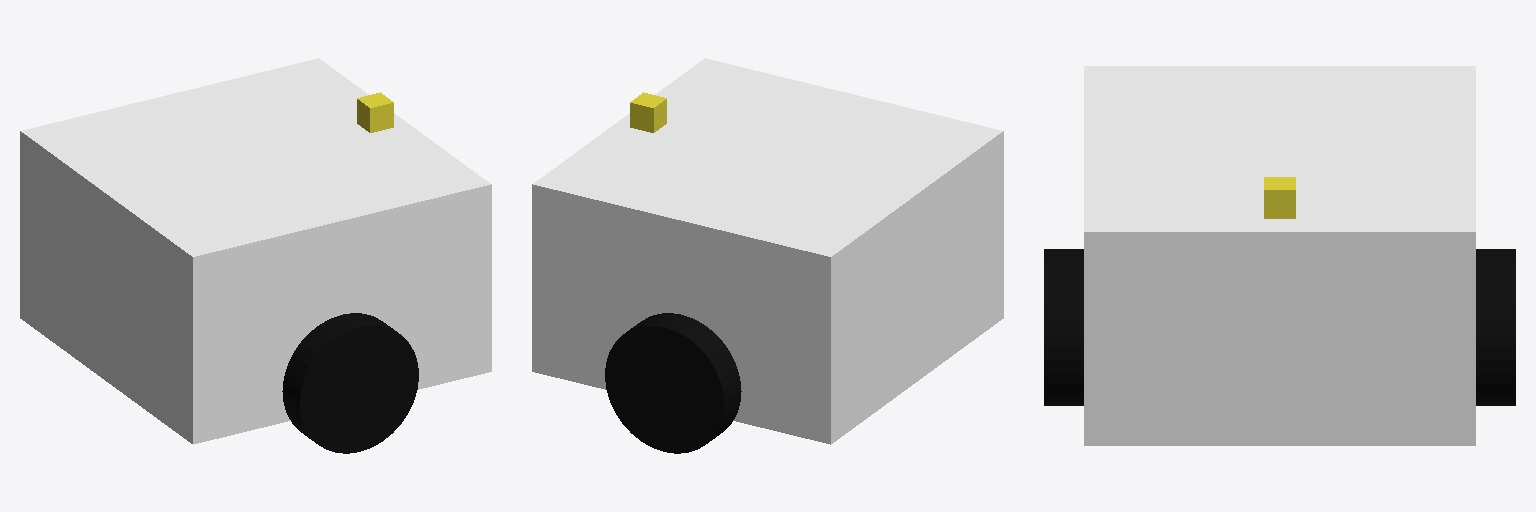
The robot description file, URDF, robot "simple_robot":
<?xml version="1.0"?>
<robot name="simple_robot">

  <!-- Materials -->
  <material name="white">
    <color rgba="1 1 1 1"/>
  </material>

  <material name="black">
    <color rgba="0.1 0.1 0.1 1"/>
  </material>

  <!-- Base Link (Chassis Box) -->
  <link name="base_link">
    <visual>
      <geometry>
        <box size="0.5 0.5 0.3"/>
      </geometry>
      <material name="white"/>
    </visual>
    <collision>
      <geometry>
        <box size="0.5 0.5 0.3"/>
      </geometry>
    </collision>
  </link>

  <!-- Right Wheel Link -->
  <link name="right_wheel">
    <visual>
      <geometry>
        <cylinder length="0.05" radius="0.1"/>
      </geometry>
      <origin rpy="1.57079 0 0" xyz="0 0 0"/>
      <material name="black"/>
    </visual>
    <collision>
      <geometry>
        <cylinder length="0.05" radius="0.1"/>
      </geometry>
      <origin rpy="1.57079 0 0" xyz="0 0 0"/>
    </collision>
  </link>

  <!-- Right Wheel Joint -->
  <joint name="base_to_right_wheel" type="continuous">
    <parent link="base_link"/>
    <child link="right_wheel"/>
    <origin xyz="0 -0.275 -0.1"/>
    <axis xyz="0 1 0"/>
  </joint>

  <!-- Left Wheel Link -->
  <link name="left_wheel">
    <visual>
      <geometry>
        <cylinder length="0.05" radius="0.1"/>
      </geometry>
      <origin rpy="1.57079 0 0" xyz="0 0 0"/>
      <material name="black"/>
    </visual>
    <collision>
      <geometry>
        <cylinder length="0.05" radius="0.1"/>
      </geometry>
      <origin rpy="1.57079 0 0" xyz="0 0 0"/>
    </collision>
  </link>

  <!-- Left Wheel Joint -->
  <joint name="base_to_left_wheel" type="continuous">
    <parent link="base_link"/>
    <child link="left_wheel"/>
    <origin xyz="0 0.275 -0.1"/>
    <axis xyz="0 1 0"/>
  </joint>

-----------------------------------------------------------------------------------------------------------------------
  <joint name="camera_joint" type="fixed">
    <parent link="base_link"/>
    <child link="camera_link"/>
    <origin xyz="0.2 0 0.175" rpy="0 0 0"/>
  </joint>
-----------------------------------------------------
  <link name="camera_link">
    <visual>
      <origin xyz="0 0 0"/>
      <geometry>
        <box size="0.04 0.04 0.04"/>
      </geometry>
    </visual>
  </link>
----------------------------------------------------
  <joint name="camera_optical_joint" type="fixed">
    <parent link="camera_link"/>
    <child link="camera_optical_link"/>
    <origin xyz="0 0 0" rpy="-1.57079632679 0 -1.57079632679"/>
  </joint>

  <link name="camera_optical_link"/>
----------------------------------------------------
  <gazebo reference="camera_link">
    <sensor name="camera_sensor" type="camera">
      <always_on>true</always_on>
      <visualize>true</visualize>
      <topic>camera/image_raw</topic>
      <pose>0 0 0 0 0 0</pose>
      <plugin name="ros_gz_camera::CameraSystem" filename="libgz_ros2_camera-system.so">
        <frame_name>camera_optical_link</frame_name>
      </plugin>
      <camera>
        <horizontal_fov>1.89</horizontal_fov>
        <image>
          <format>R8G8B8</format>
          <width>640</width>
          <height>480</height>
        </image>
        <clip>
          <near>0.05</near>
          <far>8.0</far>
        </clip>
      </camera>
    </sensor> 

  </gazebo>
-----------------------------------------------------------------------------------------------------------------

</robot>

--- Render facts (derived) ---
3 views of the same robot in one strip: view 1: azimuth 30°, elevation 25°; view 2: azimuth 150°, elevation 25°; view 3: azimuth 270°, elevation 25° (orthographic).
Robot: simple_robot — 5 links, 4 joints (2 continuous, 2 fixed); root link base_link; default pose: all joints at 0.
Links seen in each view (by area): view 1: base_link, right_wheel, camera_link; view 2: base_link, left_wheel, camera_link; view 3: base_link, right_wheel, left_wheel, camera_link.
Link boxes in pixels (bbox=[...]): base_link: bbox=[20, 58, 491, 444]; right_wheel: bbox=[282, 313, 418, 453]; camera_link: bbox=[357, 92, 393, 132]; base_link: bbox=[532, 58, 1003, 444]; left_wheel: bbox=[605, 313, 741, 453]; camera_link: bbox=[630, 92, 666, 132]; base_link: bbox=[1084, 66, 1475, 445]; right_wheel: bbox=[1044, 249, 1083, 405]; left_wheel: bbox=[1476, 249, 1515, 405]; camera_link: bbox=[1264, 177, 1295, 218].
Size in the robot's own frame: 0.5 by 0.6 by 0.395 metres.
Geometry: primitives only (box / cylinder / sphere), no mesh files.
